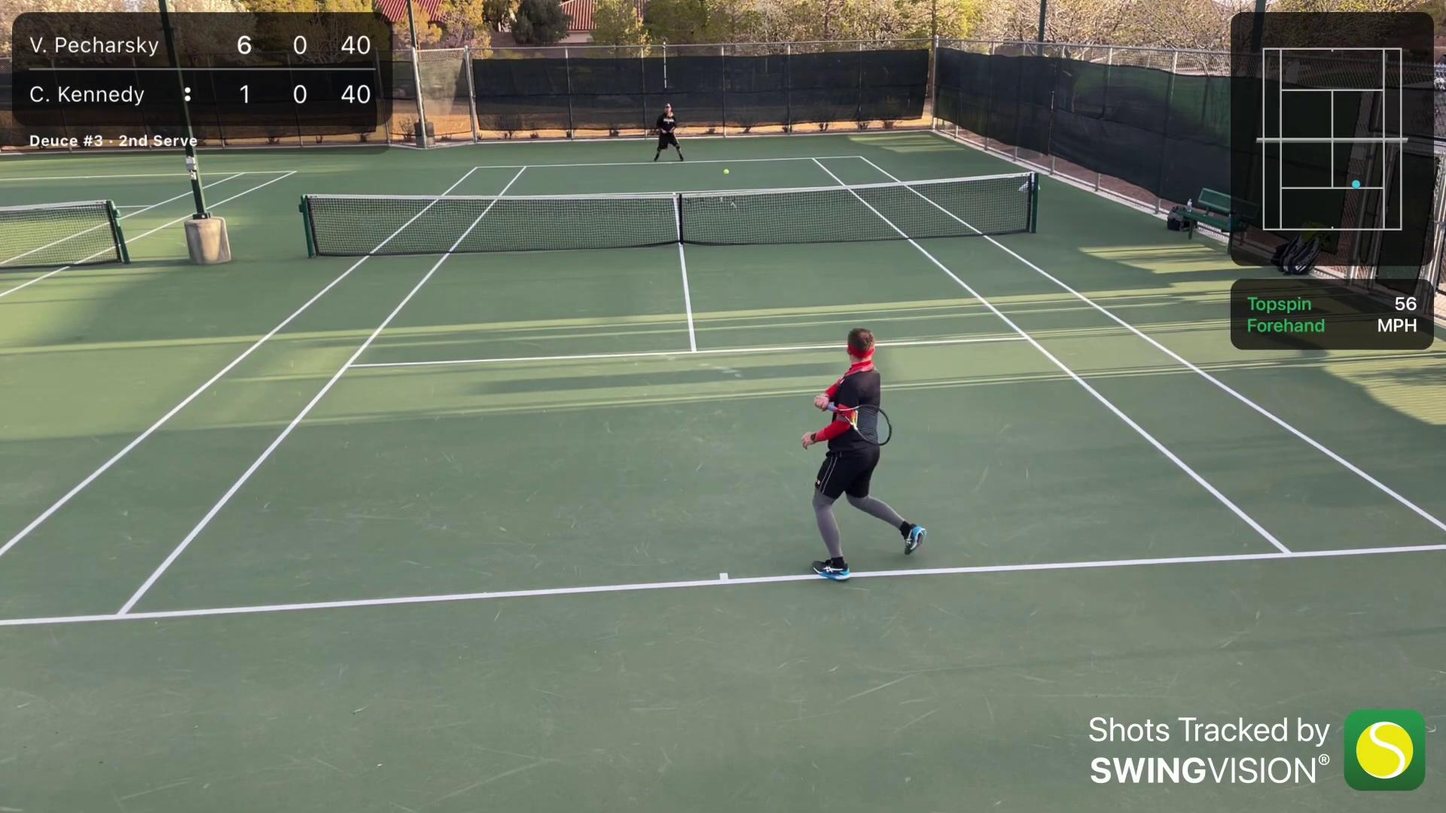ball: (721, 168, 732, 175)
